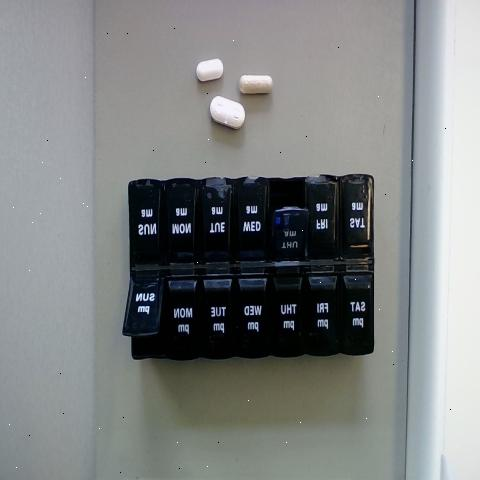FRI-am: (306, 176, 338, 262)
FRI-pm: (308, 270, 346, 358)
MON-am: (165, 178, 199, 260)
MON-pm: (167, 270, 201, 354)
Open: (124, 274, 164, 358), (272, 177, 306, 246)
Pill: (200, 95, 255, 133), (194, 44, 235, 87), (237, 64, 284, 101)
PillBox: (111, 152, 388, 392)
SAT-am: (340, 175, 372, 258)
SAT-pm: (345, 267, 374, 357)
SUN-am: (130, 177, 163, 264)
THU-pm: (272, 269, 311, 359)
TUE-am: (200, 178, 234, 264)
TUE-pm: (201, 267, 236, 353)
WED-am: (237, 175, 271, 262)
WED-pm: (239, 274, 274, 357)
